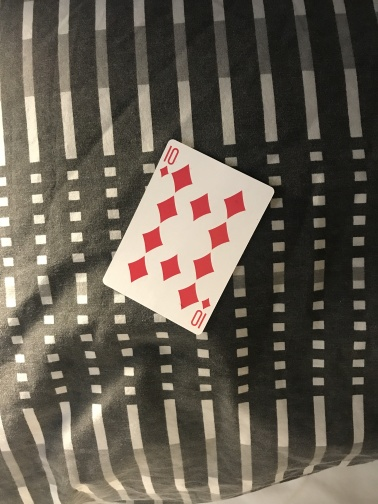ten: (101, 138, 275, 336)
